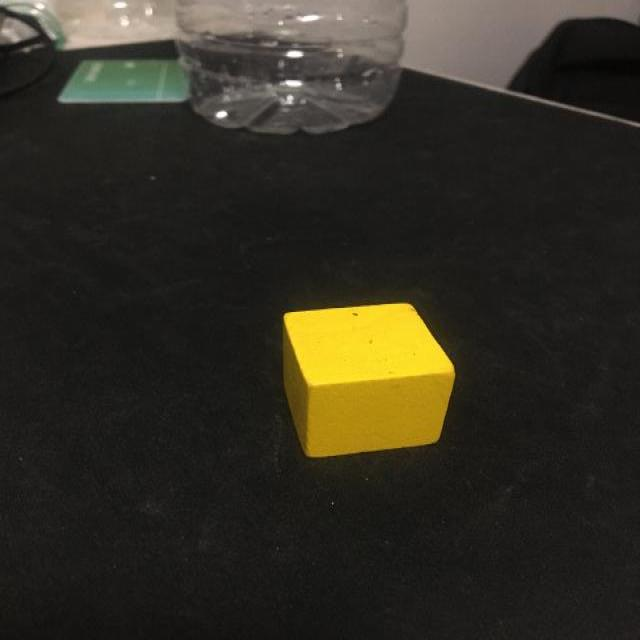yellow: (282, 304, 455, 454)
